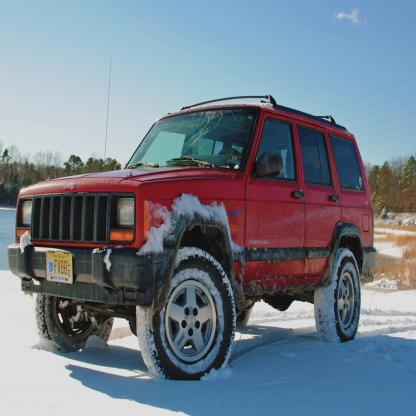Car: (8, 59, 378, 383)
